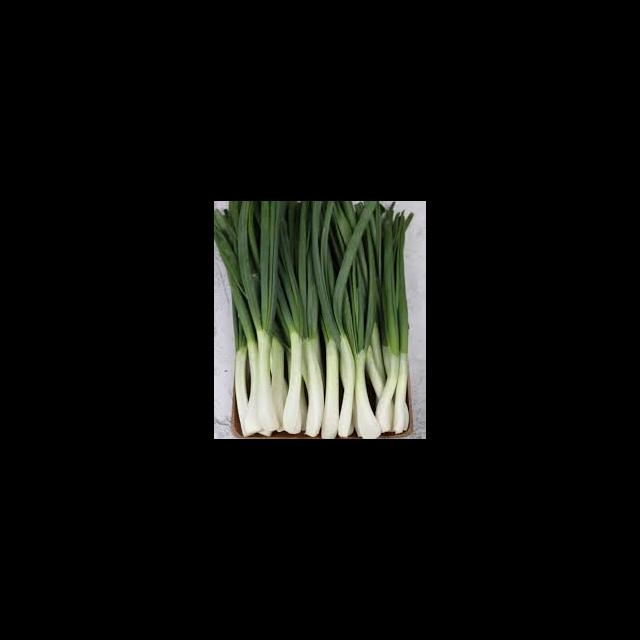green_onion: (337, 201, 413, 439), (279, 201, 339, 438), (230, 201, 281, 437)
